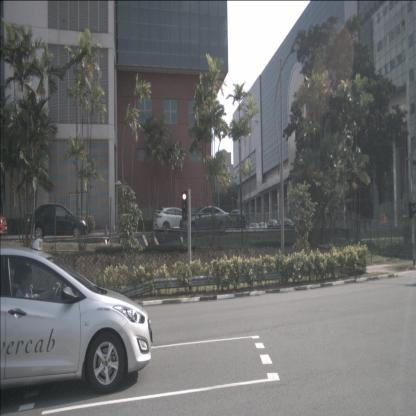cone: (104, 223, 108, 236), (142, 222, 145, 234)
